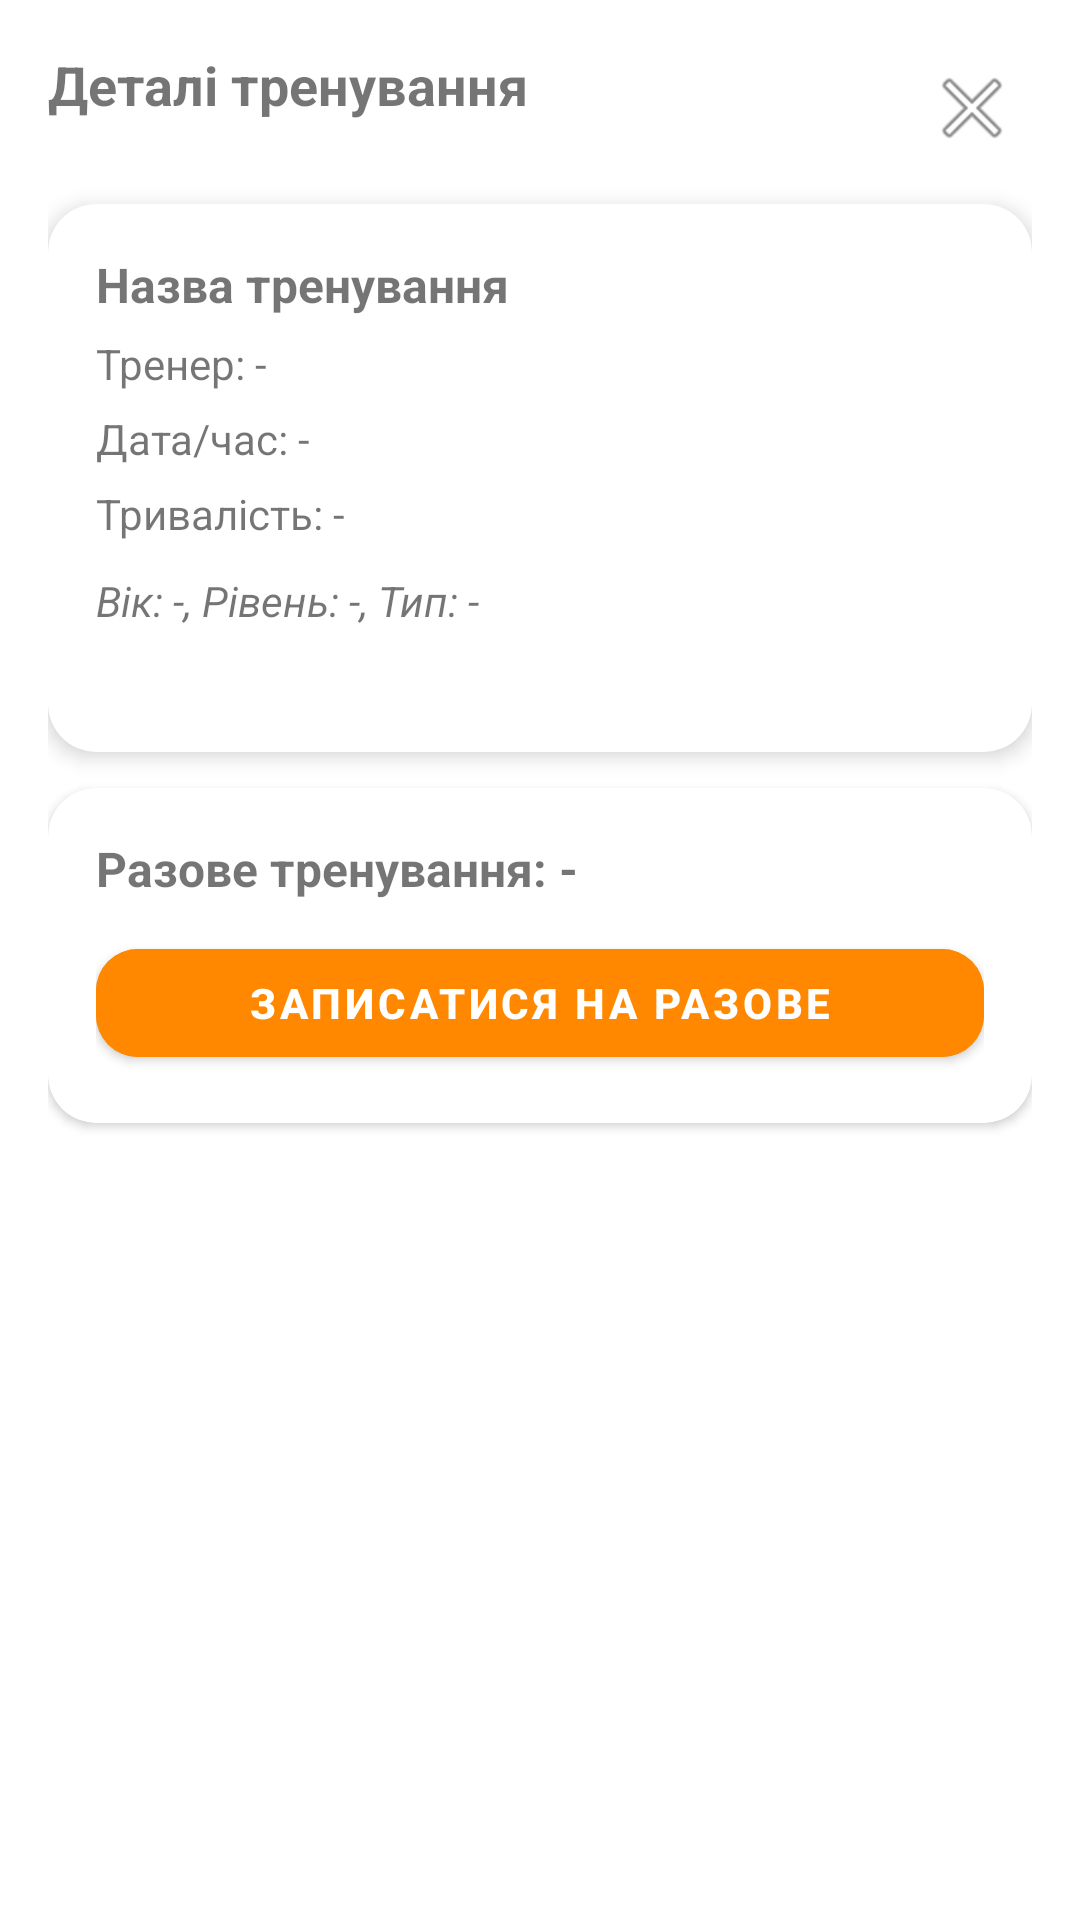

Icon click points for this 1080 × 1920 phone screenshot, format (x,y):
Закрити: (972,108)
